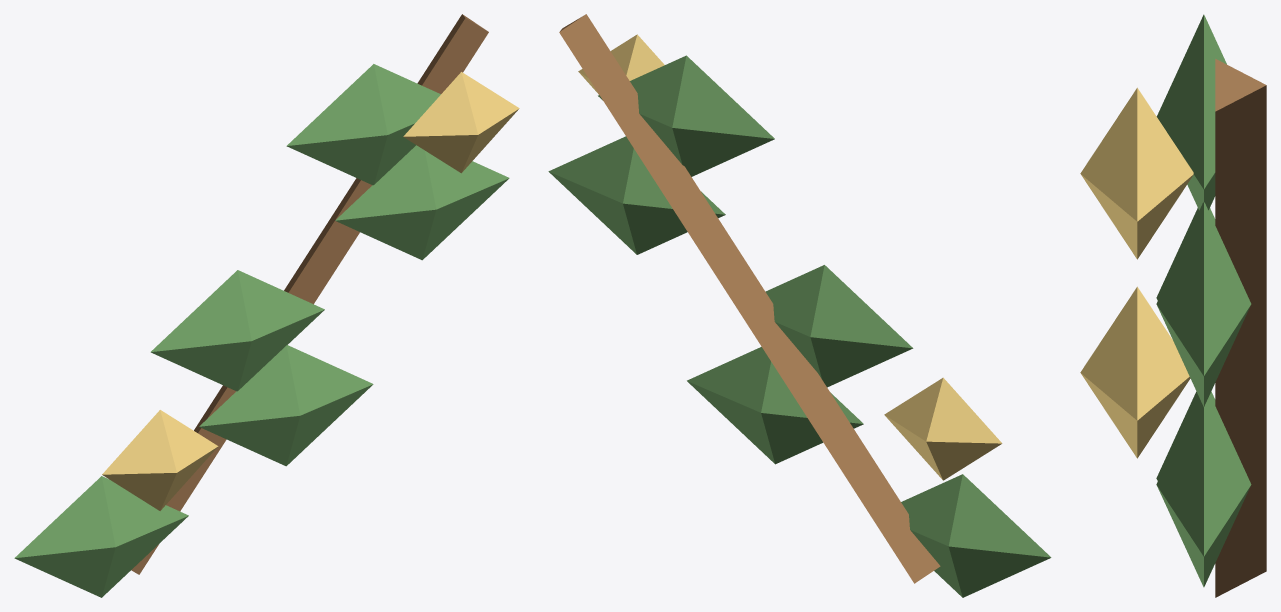
Rendered from Grassland_Accent.fbx.
3 renders of one model, left to right at view 1: azimuth 30°, elevation 25°; view 2: azimuth 150°, elevation 25°; view 3: azimuth 270°, elevation 25°, orthographic. The views are drawn at different scales.
Visible parts, largest first — view 1: Grassland_Accent; view 2: Grassland_Accent; view 3: Grassland_Accent.
Part boxes in pixels (box(x1,y1,x2,y2)): Grassland_Accent: box(14, 14, 519, 597); Grassland_Accent: box(548, 14, 1051, 597); Grassland_Accent: box(1080, 14, 1266, 597).
Bounding box in the file's own units: 51 × 47.97 × 9.8.
